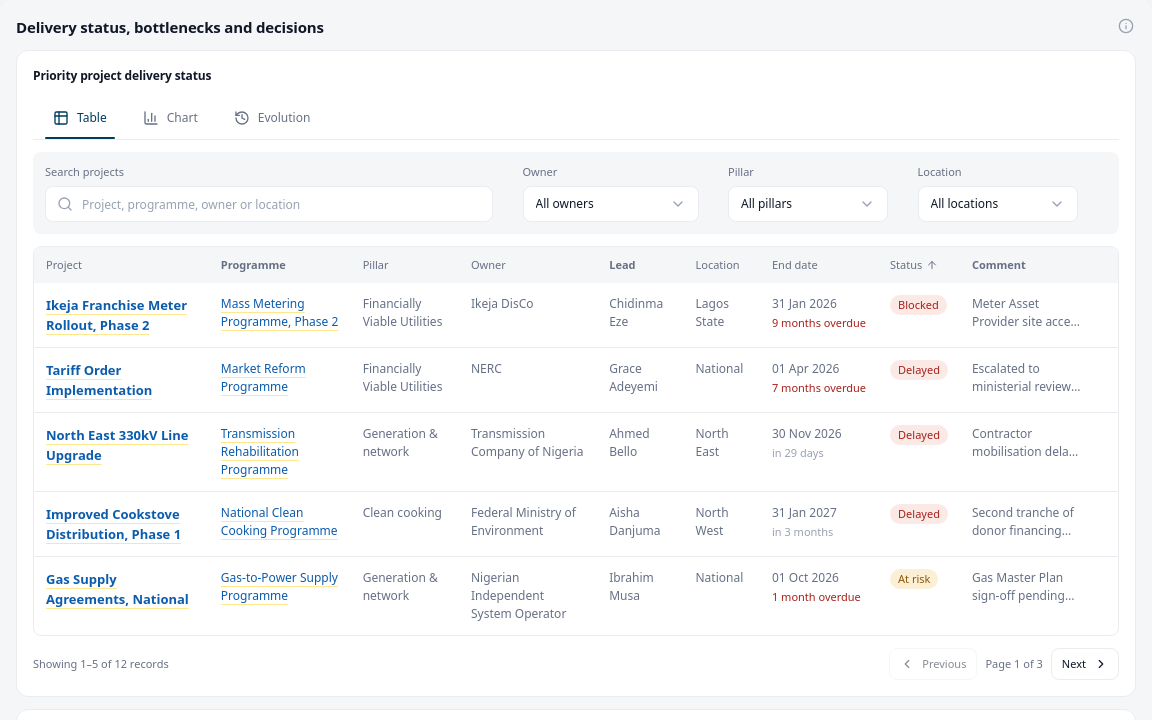
Scenario: Section D — delivery status and exceptions › searches projects and paginates the filtered results
Type "Lagos" into the search field labelled "Search projects" at (269, 204), box [45,186,493,222]
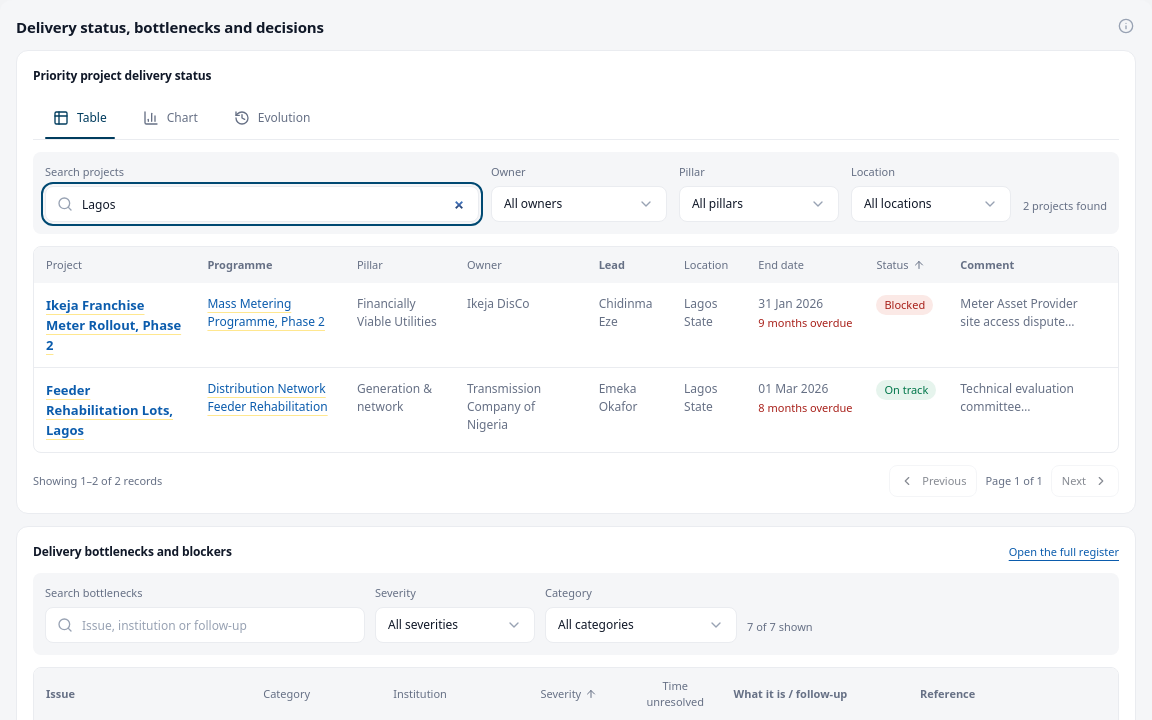
expect the text "2 projects found" is shown: met, box [1023,198,1107,222]
expect the link "Feeder Rehabilitation Lots, Lagos" is shown: met, box [46,381,173,439]
expect the button with aria-label "Next page" is disabled: met, box [1051,465,1119,497]
